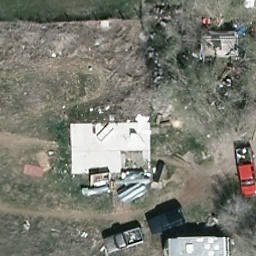car: (149, 208, 188, 236)
pickup: (232, 145, 255, 197), (102, 228, 145, 252)
